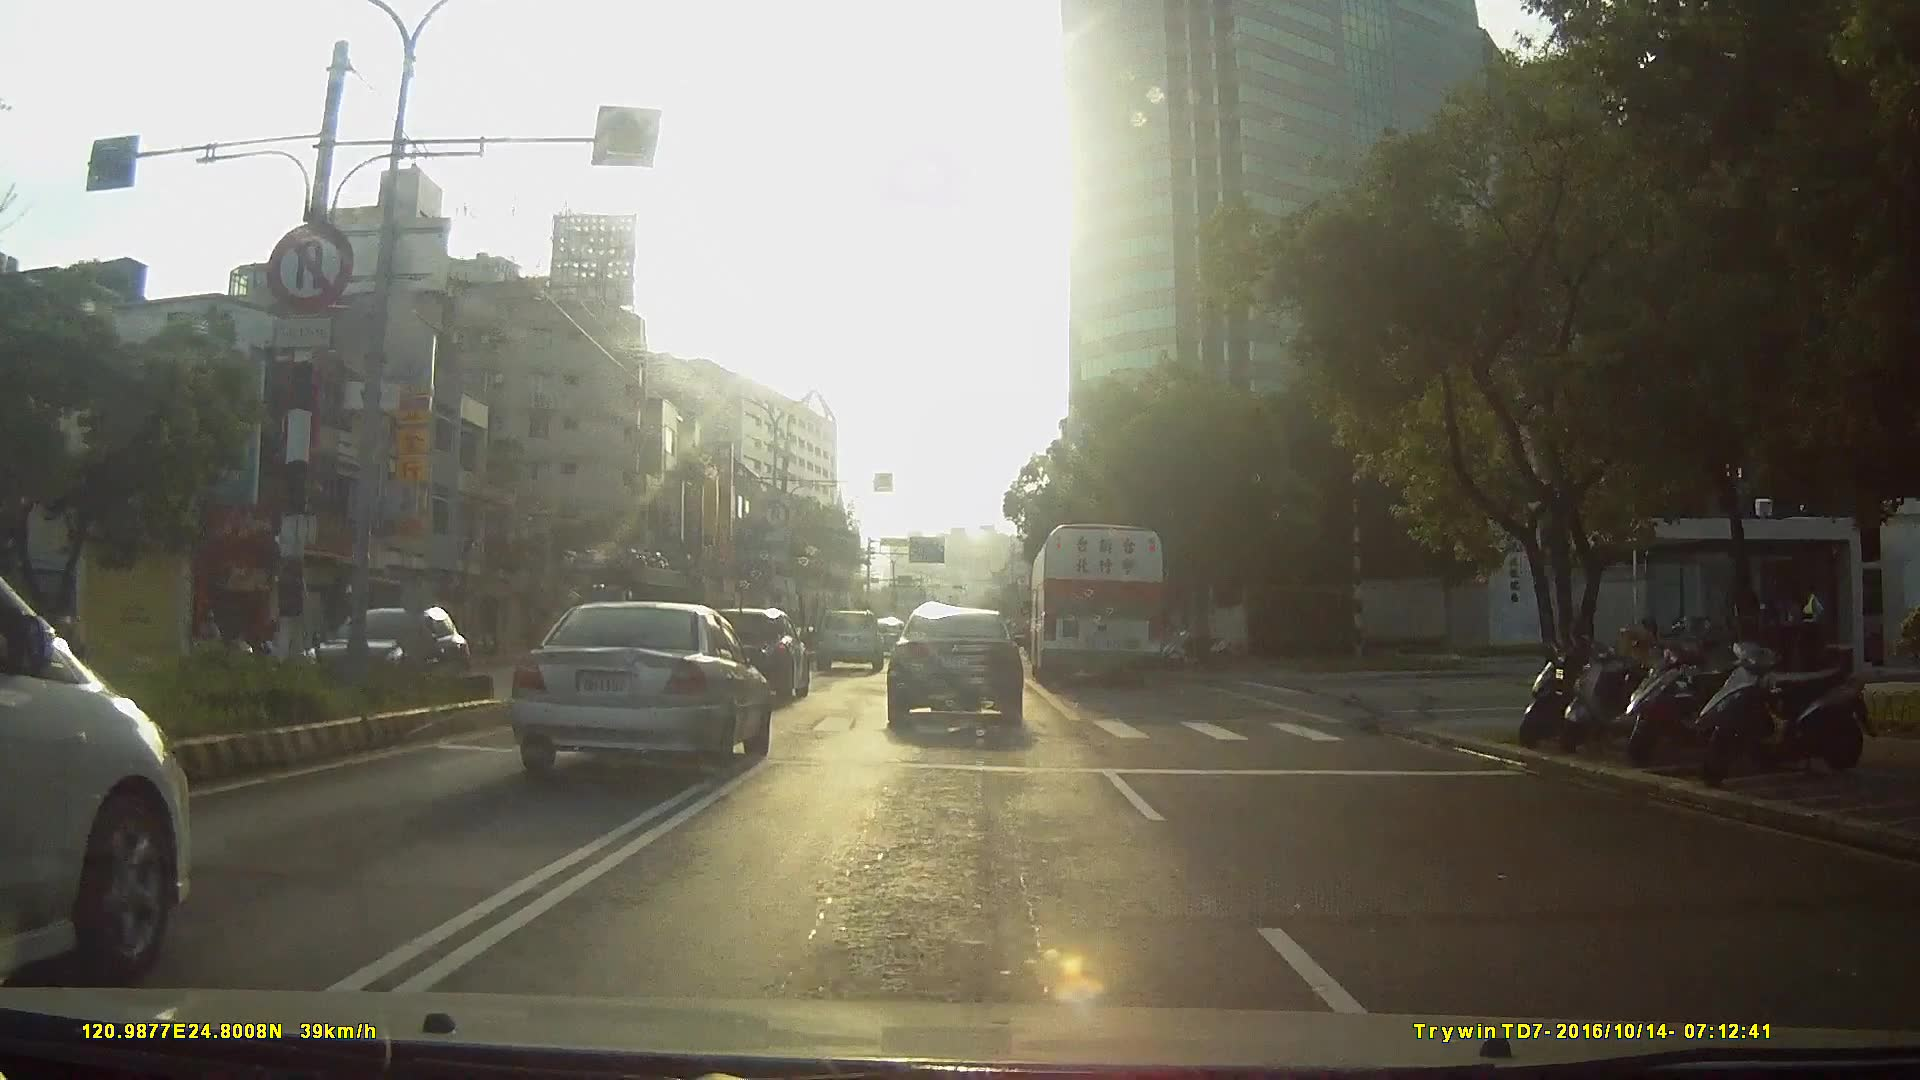vehicle: (1, 568, 202, 988), (498, 600, 769, 785), (1027, 520, 1167, 691), (295, 601, 477, 695), (885, 604, 1025, 723), (694, 607, 808, 704), (815, 607, 884, 674)
